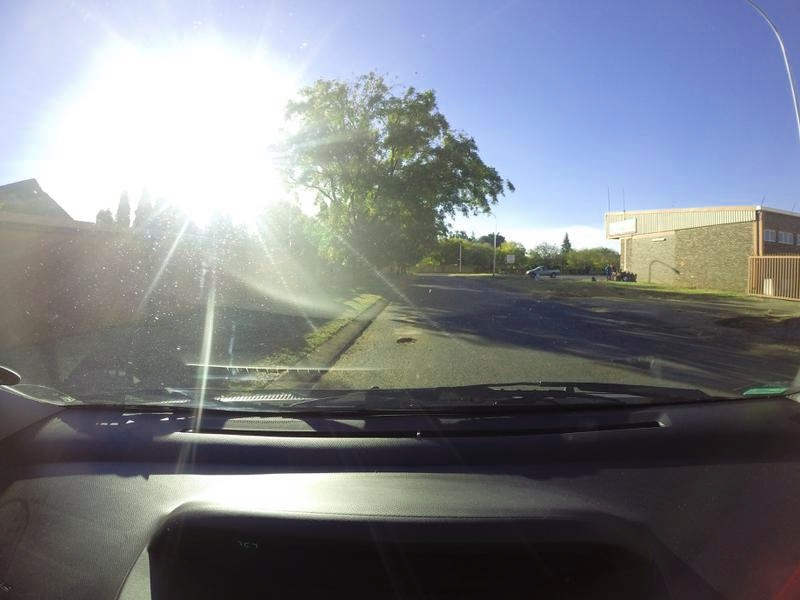pothole: (395, 337, 419, 344)
